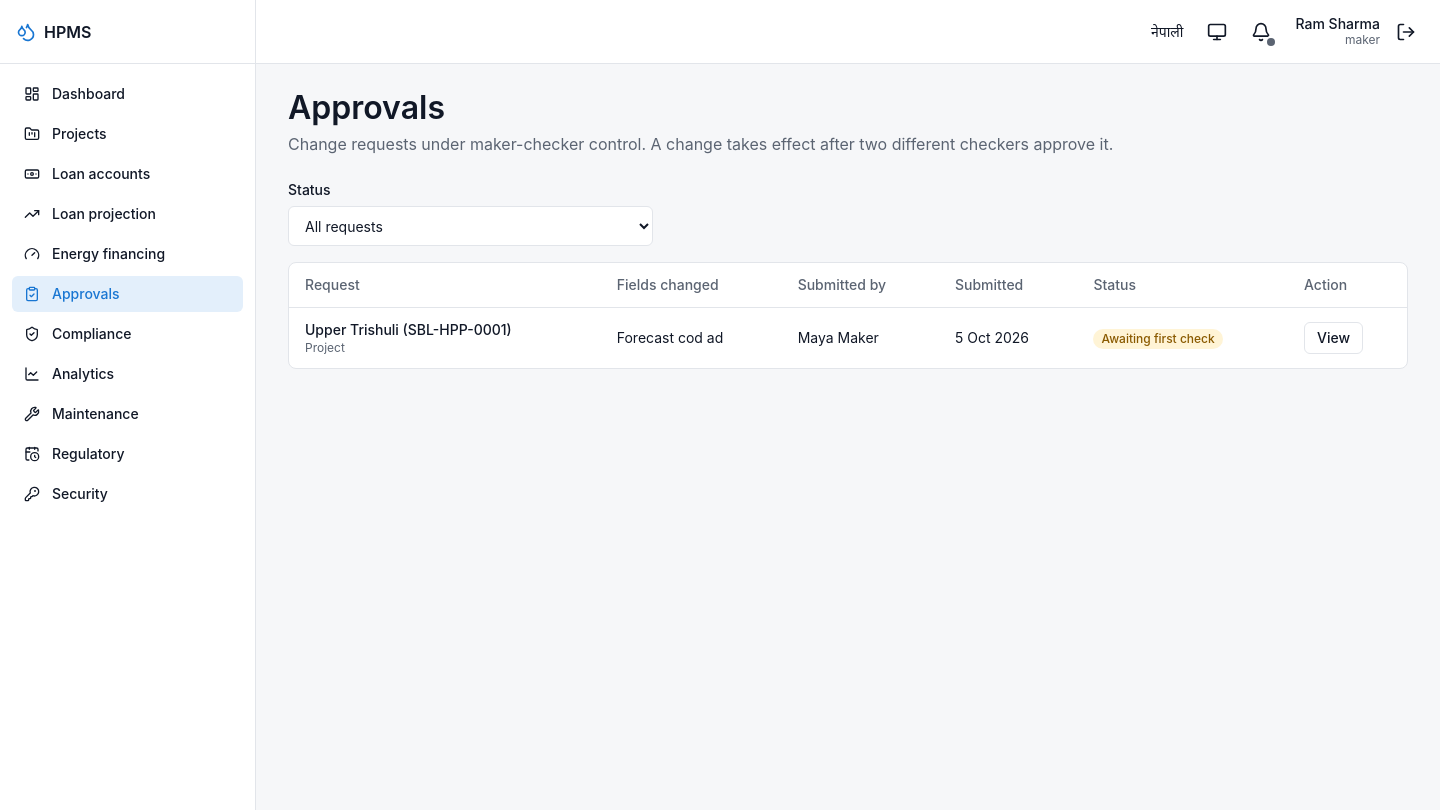
Test: ApprovalQueuePage › offers no decision on a request the user may not decide
Step 1. Click the button "View" → (1334, 338), box [1304,322,1363,354]
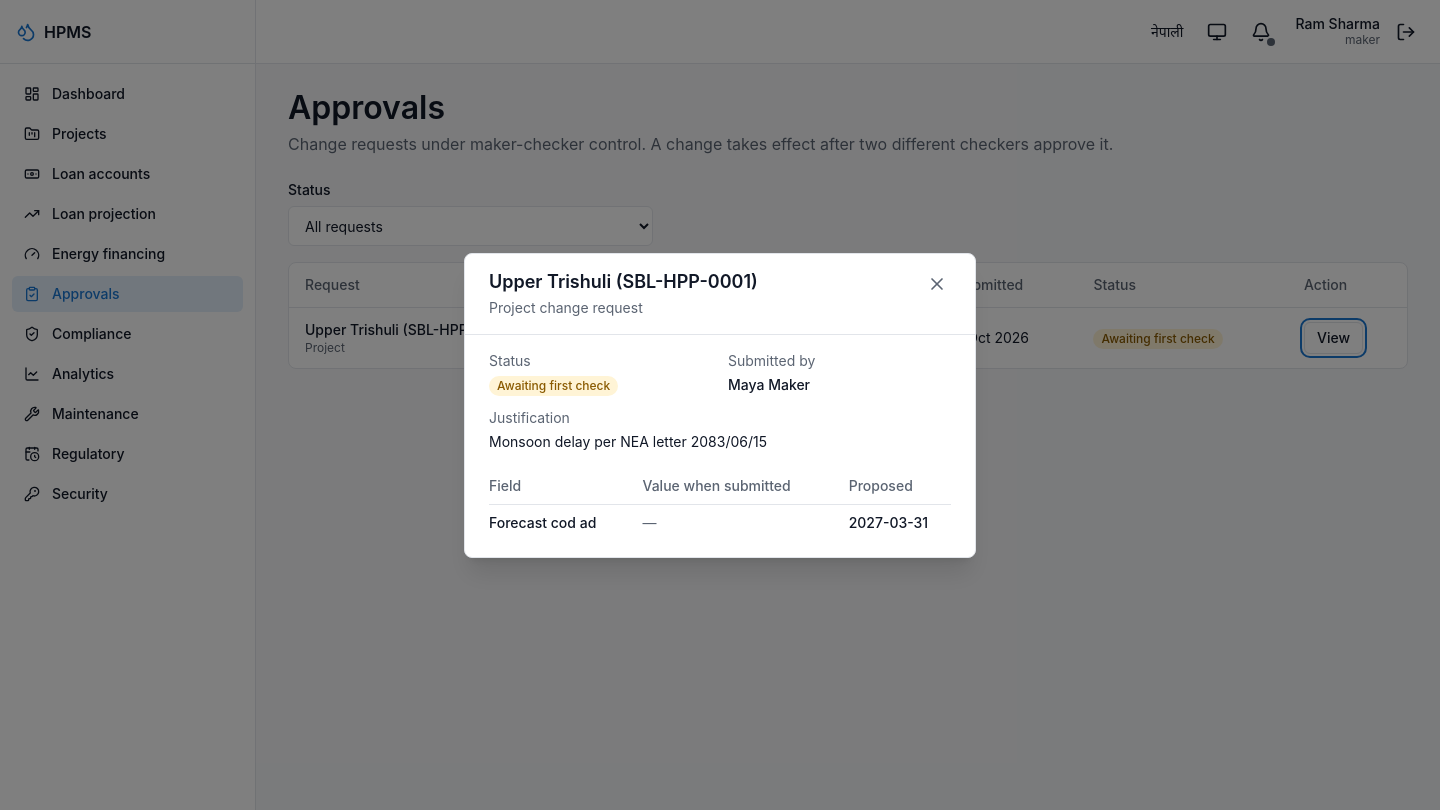
Result: the dialog shows "2027-03-31" at [849,514,928,530]
